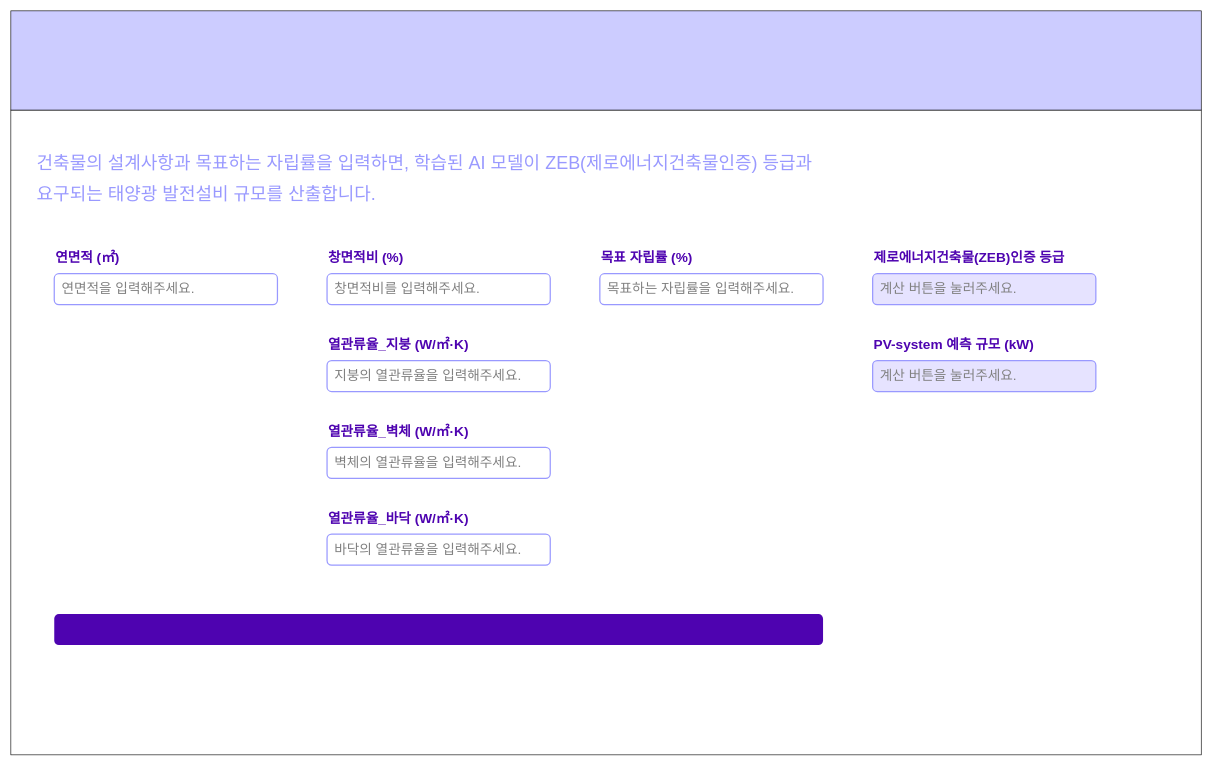
This 1212x766 diagram has some shape labels left out. Each missing label, with the centre of its shape:
"ZEB PV-system 설치 용량 예측 _ 비주거 ver." goes at [605,60].
"계 산 하 기" goes at [438,629].
